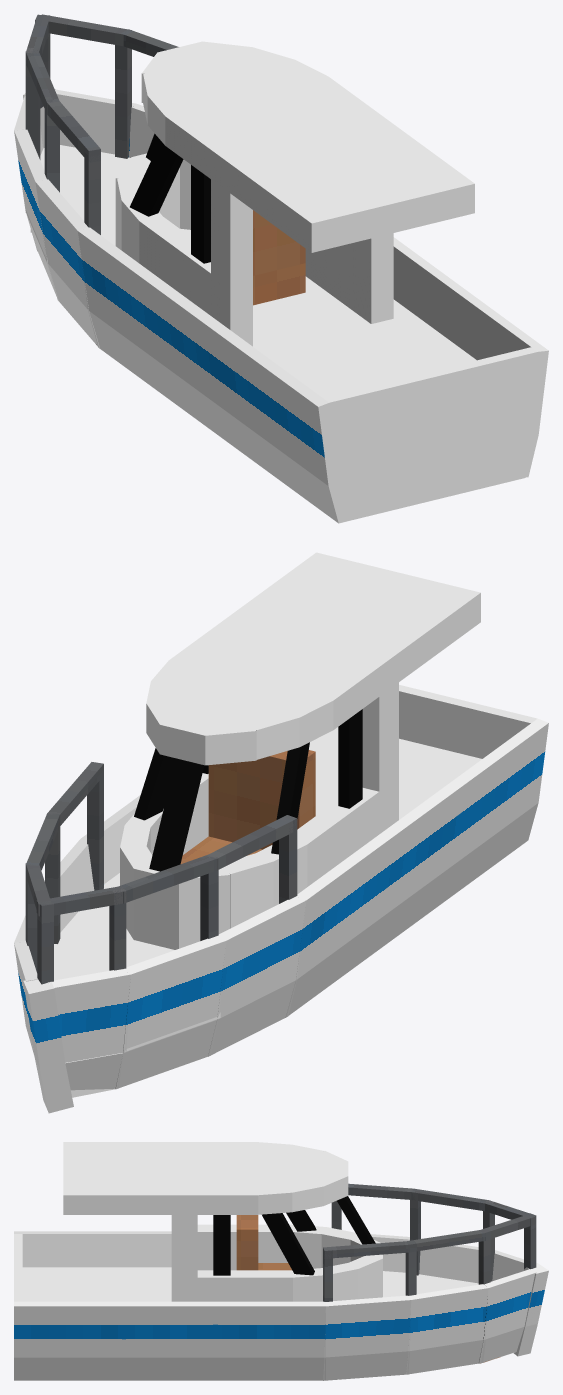
Rendered from boat.glb.
The picture shows the model from 3 angles, top to bottom: view 1: azimuth 30°, elevation 25°; view 2: azimuth 150°, elevation 25°; view 3: azimuth 270°, elevation 25°; orthographic projection. The views are drawn at different scales.
Visible parts, largest first — view 1: cube_5, cube_37, cube_35, cube_47, cube_36, cube_53, cube_54, cube_3, cube_10, cube_39, cube_4, cube_42 (+33 smaller); view 2: cube_5, cube_37, cube_41, cube_53, cube_39, cube_1, cube_35, cube_43, cube_47, cube_10, cube_3, cube_23 (+40 smaller); view 3: cube_36, cube_5, cube_52, cube_37, cube_47, cube_38, cube_48, cube_9, cube_42, cube_4, cube_50, cube_41 (+40 smaller).
Boxes of the visible parts, x1=… form: cube_5: x1=165, y1=76, x2=474, y2=252; cube_37: x1=77, y1=227, x2=332, y2=486; cube_35: x1=323, y1=347, x2=537, y2=484; cube_47: x1=253, y1=276, x2=476, y2=397; cube_36: x1=393, y1=237, x2=548, y2=435; cube_53: x1=88, y1=310, x2=432, y2=523; cube_54: x1=339, y1=436, x2=525, y2=522; cube_3: x1=211, y1=179, x2=252, y2=346; cube_10: x1=139, y1=215, x2=210, y2=315; cube_39: x1=35, y1=178, x2=88, y2=310; cube_4: x1=351, y1=233, x2=393, y2=323; cube_42: x1=55, y1=89, x2=135, y2=154; cube_5: x1=169, y1=552, x2=480, y2=729; cube_37: x1=296, y1=718, x2=548, y2=979; cube_41: x1=123, y1=935, x2=226, y2=1052; cube_53: x1=285, y1=803, x2=538, y2=1017; cube_39: x1=217, y1=896, x2=306, y2=1019; cube_1: x1=208, y1=750, x2=315, y2=849; cube_35: x1=399, y1=685, x2=537, y2=758; cube_43: x1=48, y1=968, x2=130, y2=1062; cube_47: x1=104, y1=727, x2=481, y2=888; cube_10: x1=297, y1=788, x2=379, y2=886; cube_3: x1=362, y1=682, x2=398, y2=833; cube_23: x1=149, y1=758, x2=204, y2=871; cube_36: x1=14, y1=1301, x2=325, y2=1357; cube_5: x1=63, y1=1142, x2=258, y2=1214; cube_52: x1=14, y1=1357, x2=325, y2=1380; cube_37: x1=14, y1=1231, x2=171, y2=1267; cube_47: x1=22, y1=1267, x2=171, y2=1301; cube_38: x1=324, y1=1295, x2=411, y2=1357; cube_48: x1=408, y1=1284, x2=488, y2=1350; cube_9: x1=197, y1=1270, x2=292, y2=1301; cube_42: x1=483, y1=1269, x2=536, y2=1339; cube_4: x1=171, y1=1215, x2=197, y2=1301; cube_50: x1=323, y1=1351, x2=409, y2=1380; cube_41: x1=419, y1=1238, x2=478, y2=1283.
Bounding box in the file's own units: 2.56 × 2.96 × 7.72.
1 material, 1 textured.
